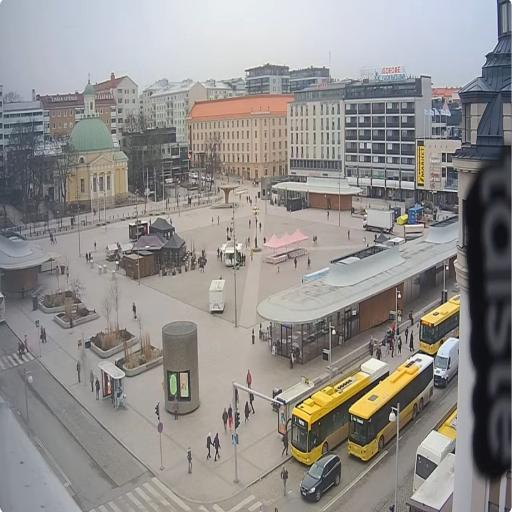bus: (286, 355, 390, 467), (342, 351, 436, 466), (412, 402, 457, 495), (416, 290, 461, 356), (2, 290, 8, 323)
car: (297, 455, 343, 506), (189, 172, 198, 180), (206, 175, 215, 183), (201, 173, 204, 181)
delivery: (433, 336, 460, 390), (362, 205, 397, 234)
